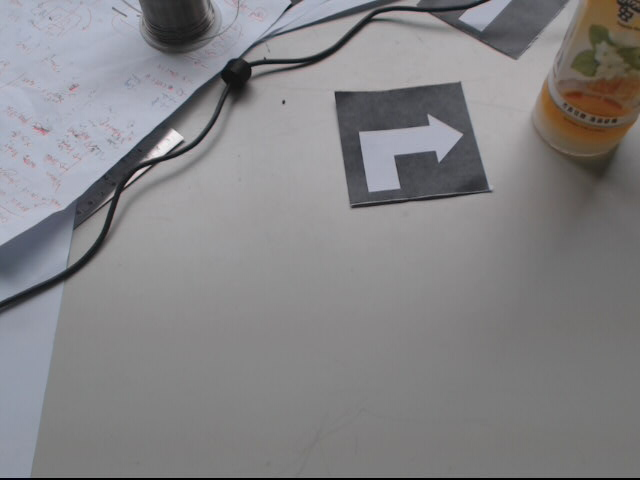right: (332, 80, 492, 208)
